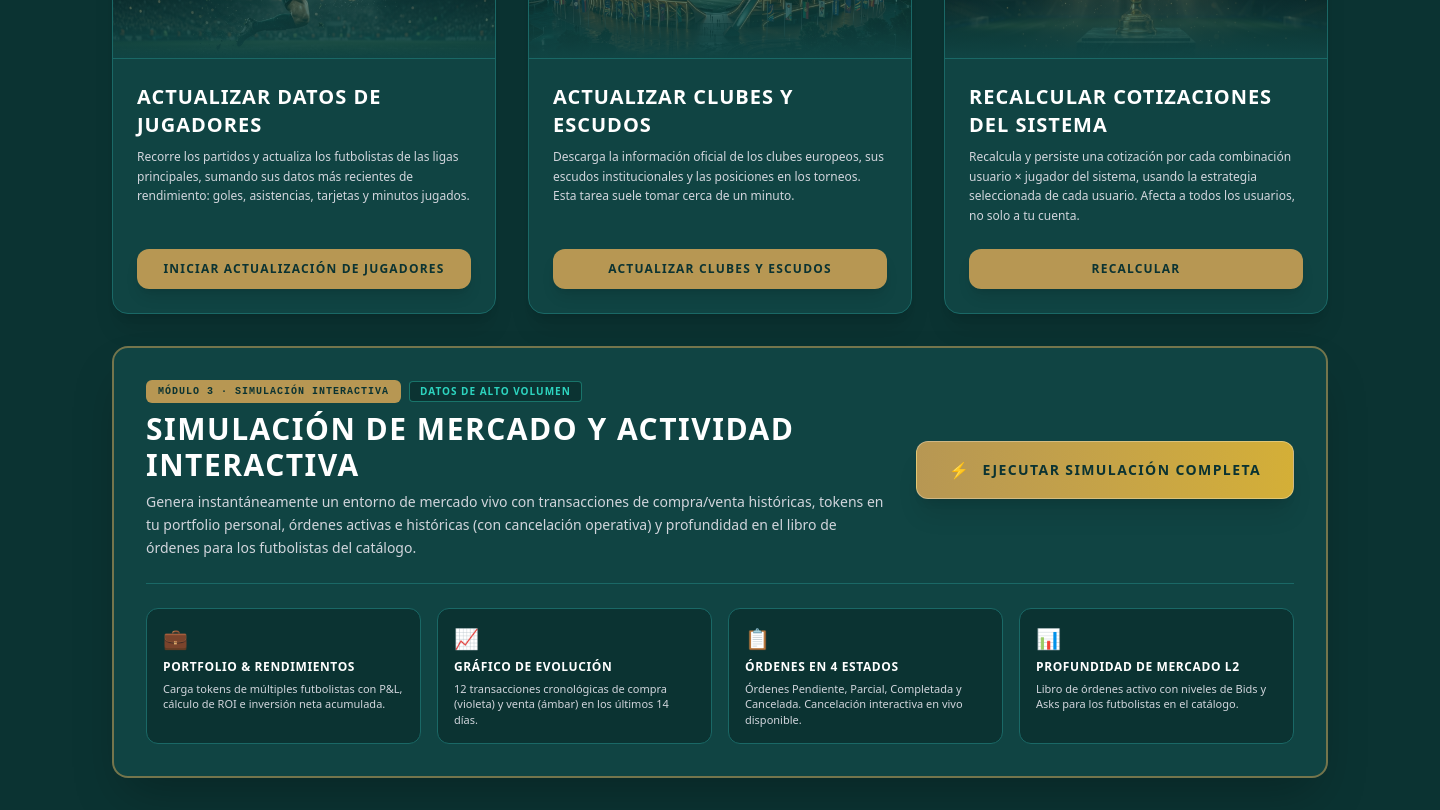
Test: AdminPage › dispara la simulación de mercado y muestra el resumen de resultados
(page scrolled)
Click the button "⚡ Ejecutar Simulación Completa". click: coordinates (1105, 470)
box: x1=916 y1=441 x2=1294 y2=499
(page scrolled)
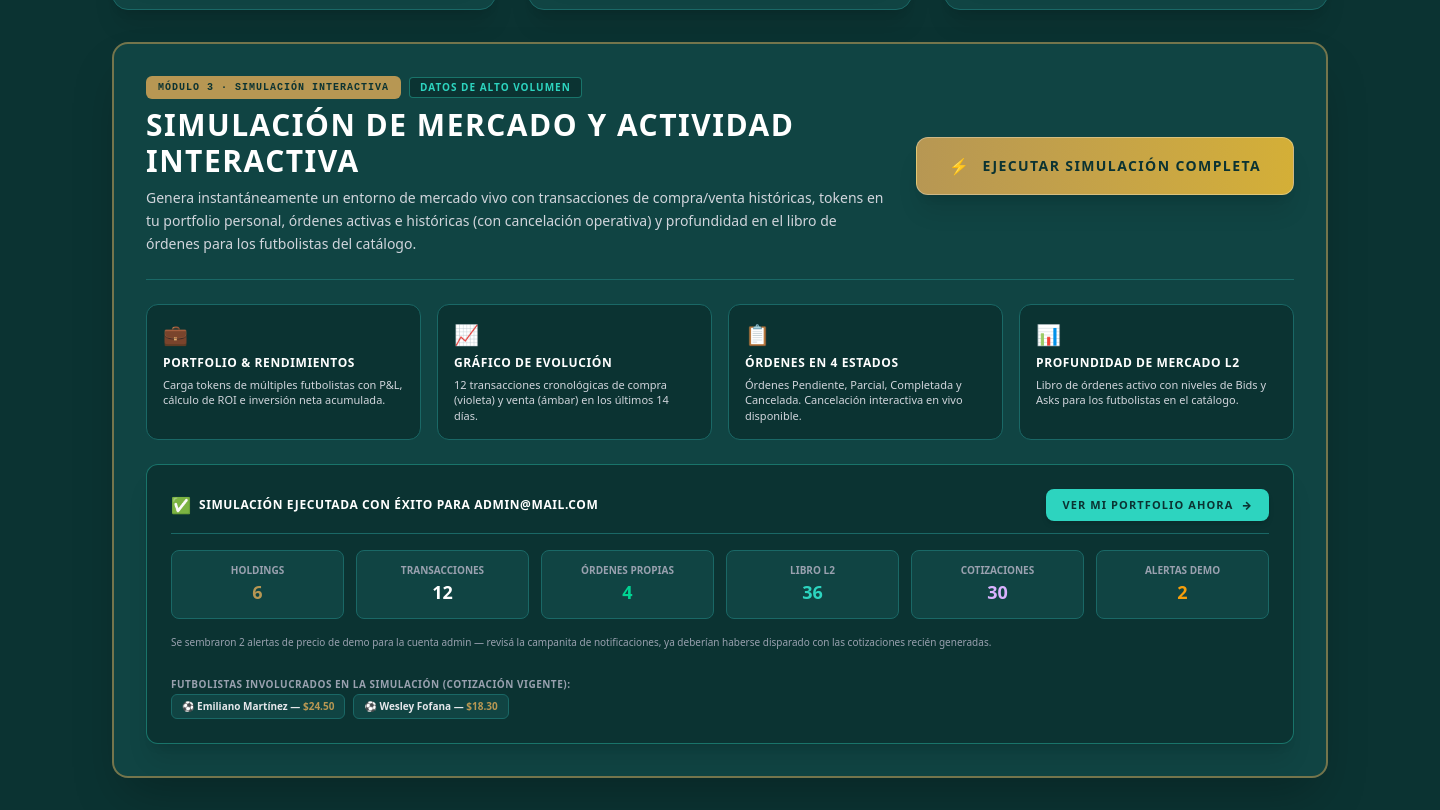
Now the text "Simulación ejecutada con éxito para admin@mail.com" is shown, box x1=199 y1=497 x2=598 y2=513
Now the text "⚽ Emiliano Martínez — $24.50" is shown, box x1=197 y1=699 x2=288 y2=713
Now the text "$24.50" is shown, box x1=303 y1=699 x2=334 y2=713
